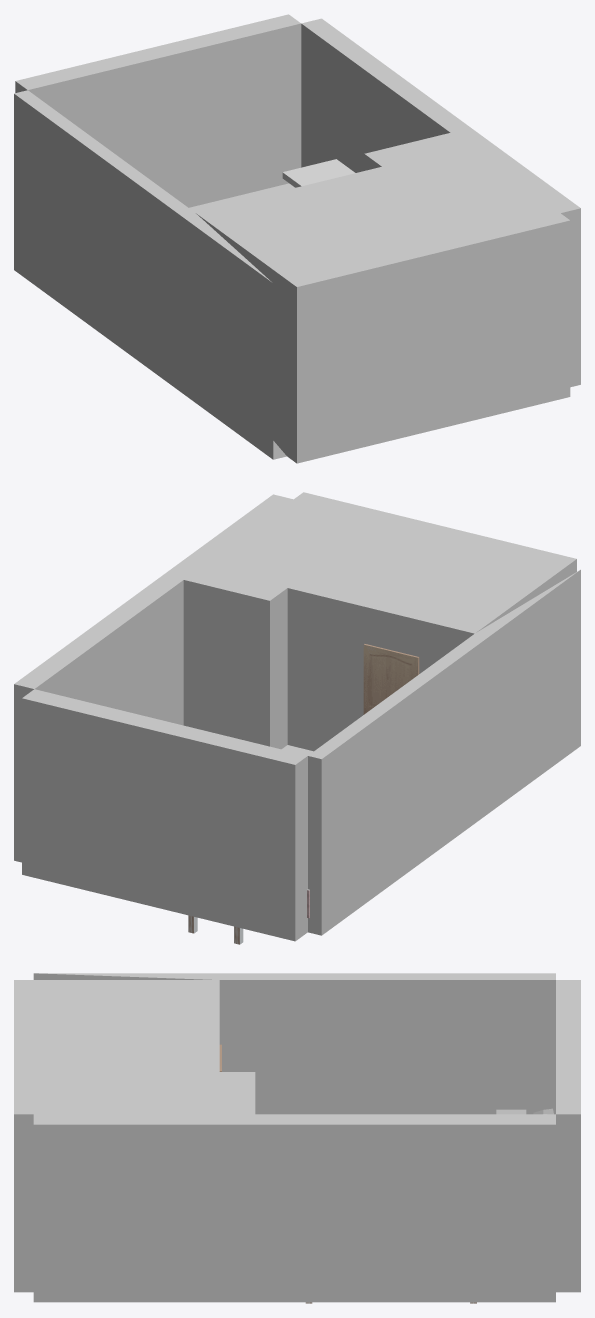
Rendered from pieza.fbx.
3 renders of one model, top to bottom at view 1: azimuth 30°, elevation 25°; view 2: azimuth 150°, elevation 25°; view 3: azimuth 270°, elevation 25°, orthographic.
Visible parts, largest first — view 1: Cube.009, Cube.021; view 2: Cube.009, Cube.020; view 3: Cube.009.
Boxes of the visible parts, x1,y1,x2,y2 form: Cube.009: [14, 14, 580, 463]; Cube.021: [282, 159, 355, 187]; Cube.009: [14, 492, 580, 941]; Cube.020: [363, 644, 419, 714]; Cube.009: [14, 973, 580, 1302].
Size of the model in its own units: 911 by 690 by 1443.
